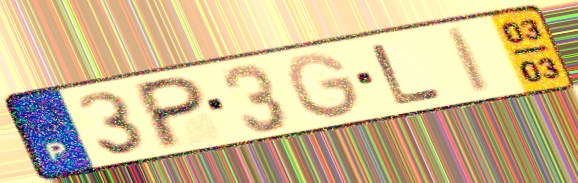3: (220, 62, 291, 136), (76, 89, 149, 155)
G: (283, 50, 367, 121)
I: (441, 23, 496, 96)
L: (366, 40, 448, 108)
P: (134, 72, 208, 153)
